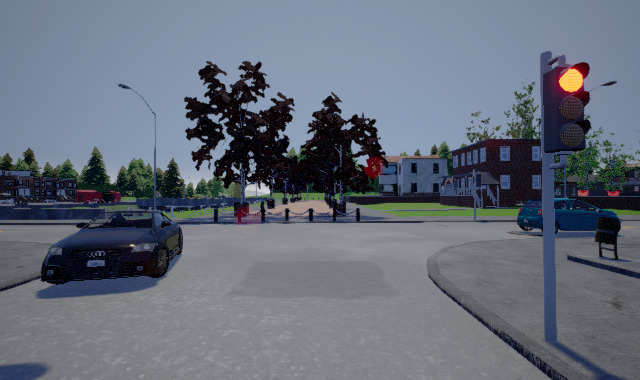traffic_light: (542, 61, 592, 153)
vehicle: (40, 209, 183, 285), (517, 197, 620, 234)
